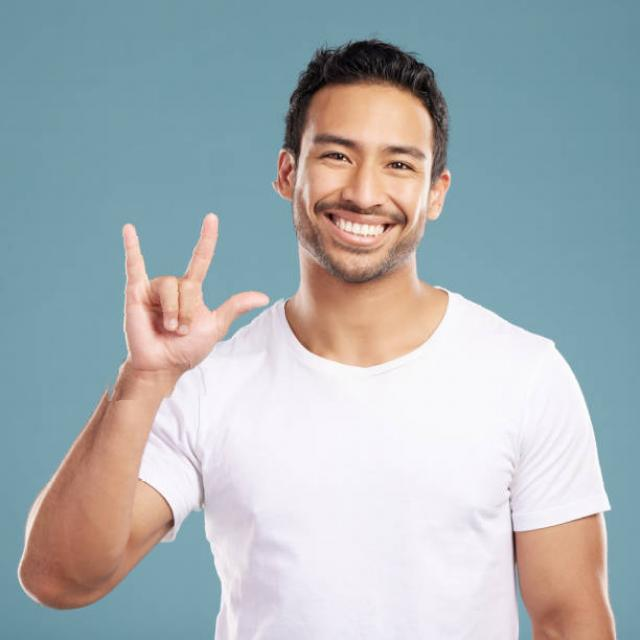I Love You: (99, 185, 286, 399)
